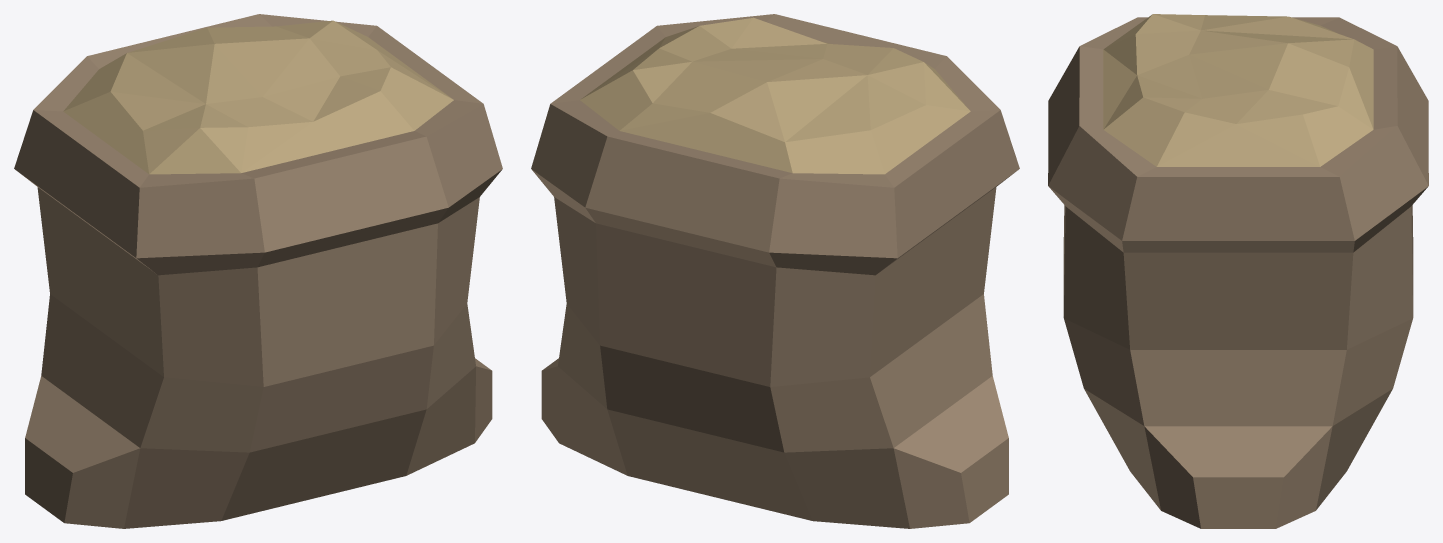
Rendered from SM_Prop_GrainBag_Open_01.glb.
3 views of the same model, side by side, from view 1: azimuth 30°, elevation 25°; view 2: azimuth 150°, elevation 25°; view 3: azimuth 270°, elevation 25° (orthographic). The views are drawn at different scales.
Visible parts, largest first — view 1: SM_Prop_GrainBag_Open_01; view 2: SM_Prop_GrainBag_Open_01; view 3: SM_Prop_GrainBag_Open_01.
Part boxes in pixels (x1,y1,x2,y2): SM_Prop_GrainBag_Open_01: [14, 14, 502, 528]; SM_Prop_GrainBag_Open_01: [531, 14, 1019, 528]; SM_Prop_GrainBag_Open_01: [1048, 14, 1428, 528].
Size of the model in its own units: 0.5307 by 0.4715 by 0.4301.
Materials: 1 (1 with a texture image).
